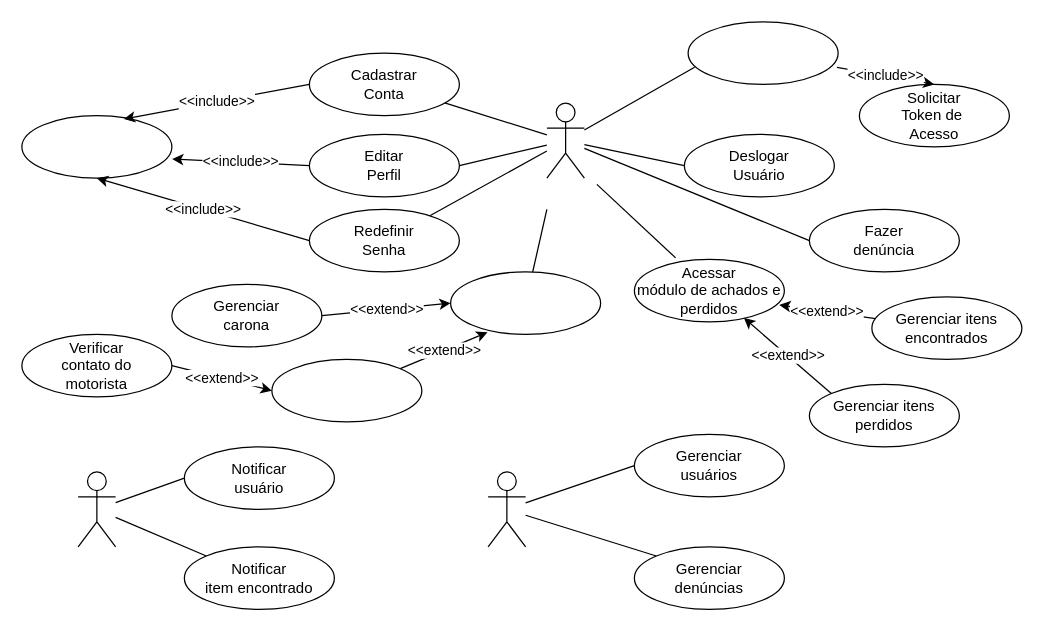
Some shapes in this 1044 by 631 pixel diagram are drawn without their labels. Here are the shapes that lost their labels. From the top down, the centre of each, then its label:
At (x=762, y=52): "Logar Usuário".
At (x=96, y=146): "Encaminhar E-mail".
At (x=565, y=140): "Usuário".
At (x=525, y=302): "Acessar módulo de carona".
At (x=346, y=390): "Buscar carona".
At (x=96, y=509): "Sistema".
At (x=506, y=509): "Administrador".
